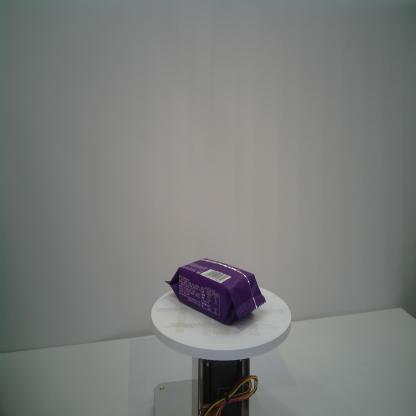Dessert: (164, 257, 266, 326)
